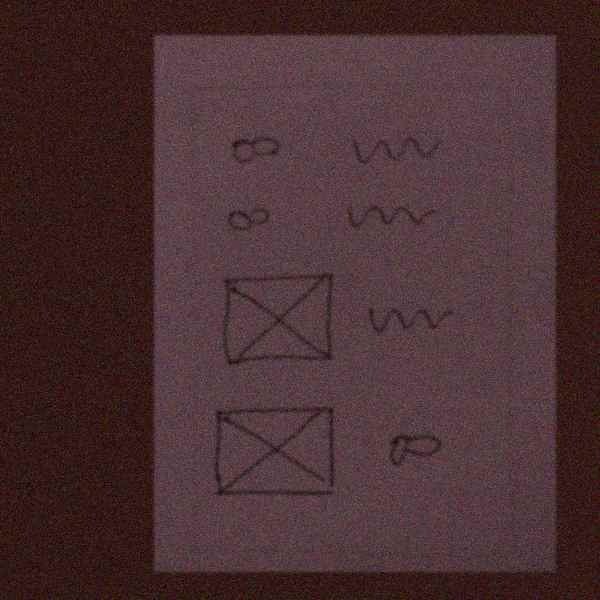image: (206, 401, 345, 506), (218, 265, 351, 373)
switch: (375, 416, 449, 474), (221, 122, 290, 167), (219, 193, 278, 237)
text: (357, 292, 458, 343), (339, 128, 457, 171), (338, 195, 448, 236)
